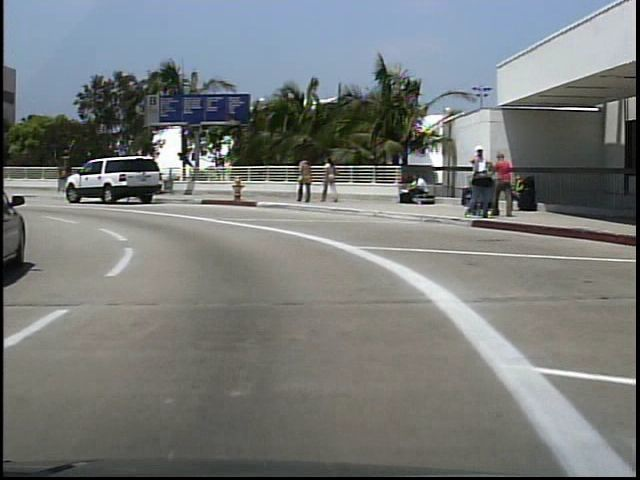person: (468, 142, 493, 222), (492, 149, 513, 220), (321, 155, 341, 207), (295, 151, 314, 205), (404, 174, 428, 206)
